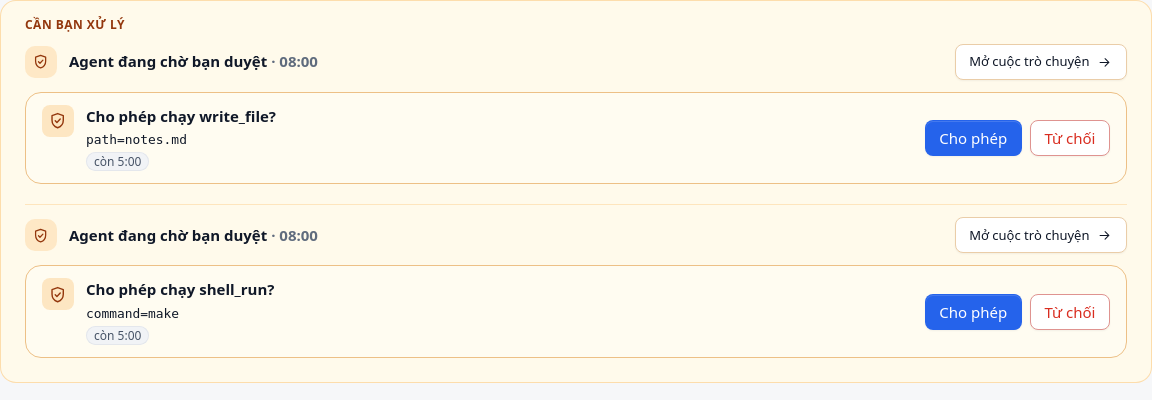
Scenario: AttentionCenter with requests settled in place › keeps the second of two requests of one second where it was listed while its turn resumes
The image size is (1152, 400).
Click the button "Cho phép" in the row of "Cho phép chạy shell_run?" at (973,312), box [925,294,1022,330]
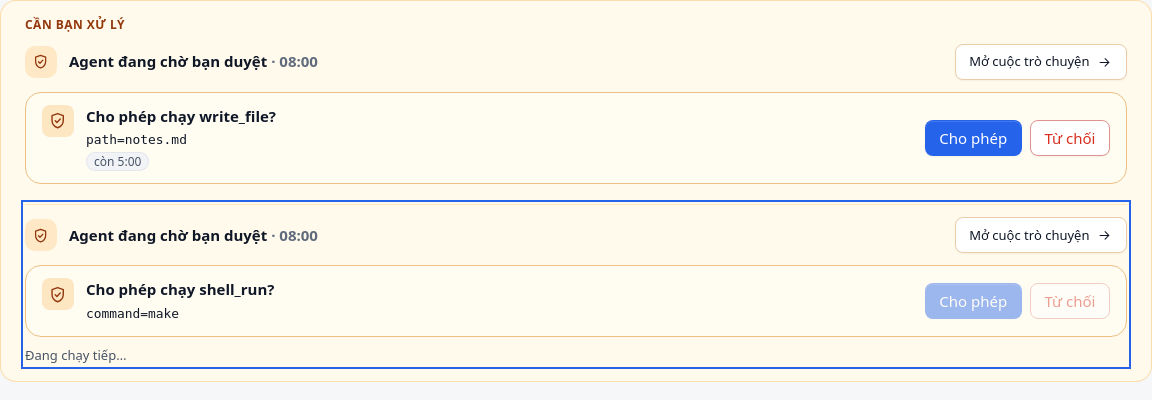
Now the text "Đang chạy tiếp…" is shown, box [25,346,126,364]
